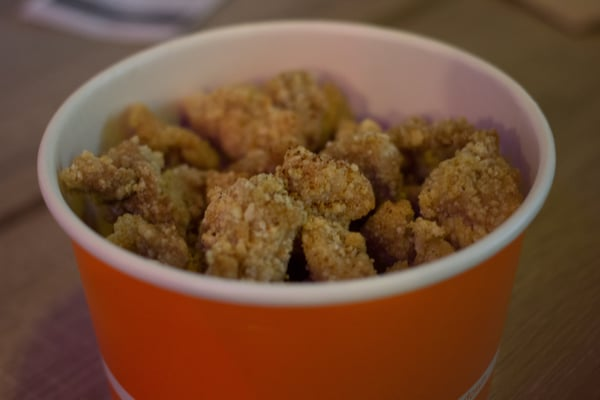sushi: (19, 16, 556, 395)
